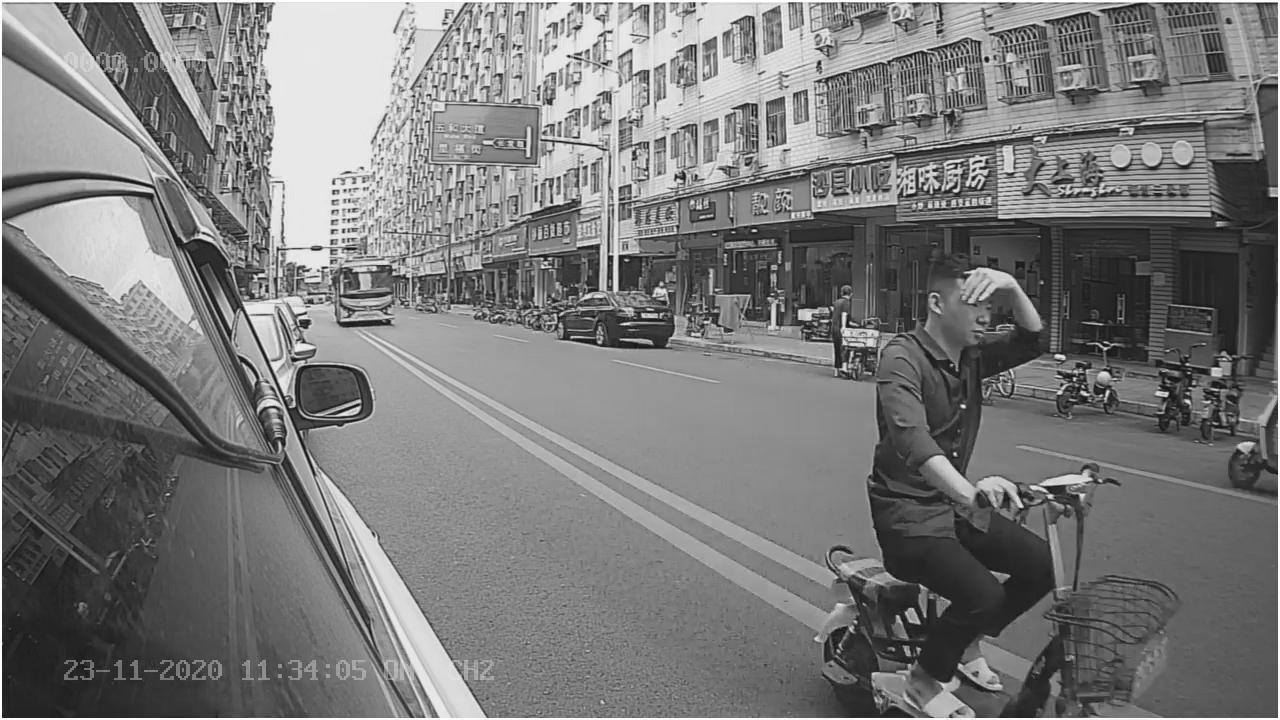person: (880, 249, 1063, 509)
